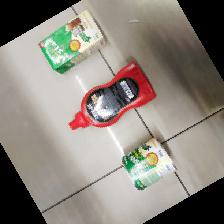Chinsu: (68, 59, 156, 134)
NSPN_Hop: (40, 9, 105, 75)
NSPN_Lon: (119, 136, 176, 191)
